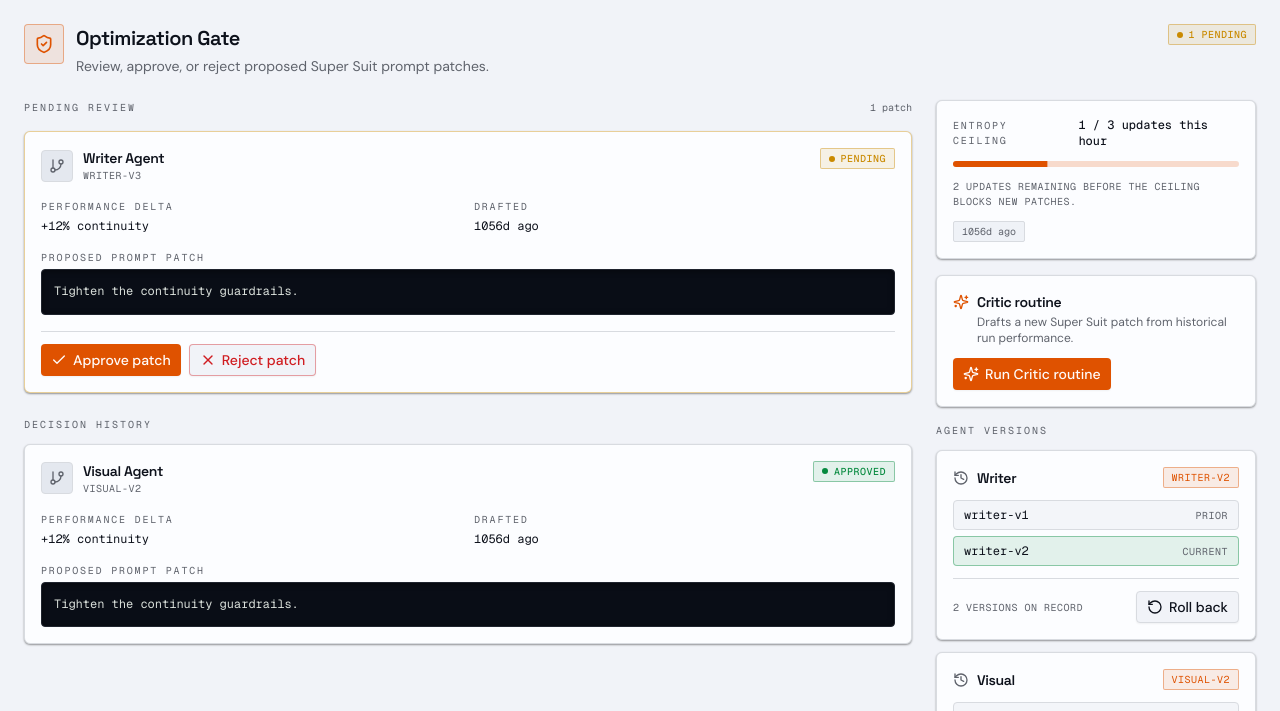
Test: OptimizationPage › rejects a pending patch through the backend
The width and height of the screenshot is (1280, 711).
Click the button "Reject patch": (252, 360) x1=189 y1=344 x2=316 y2=376
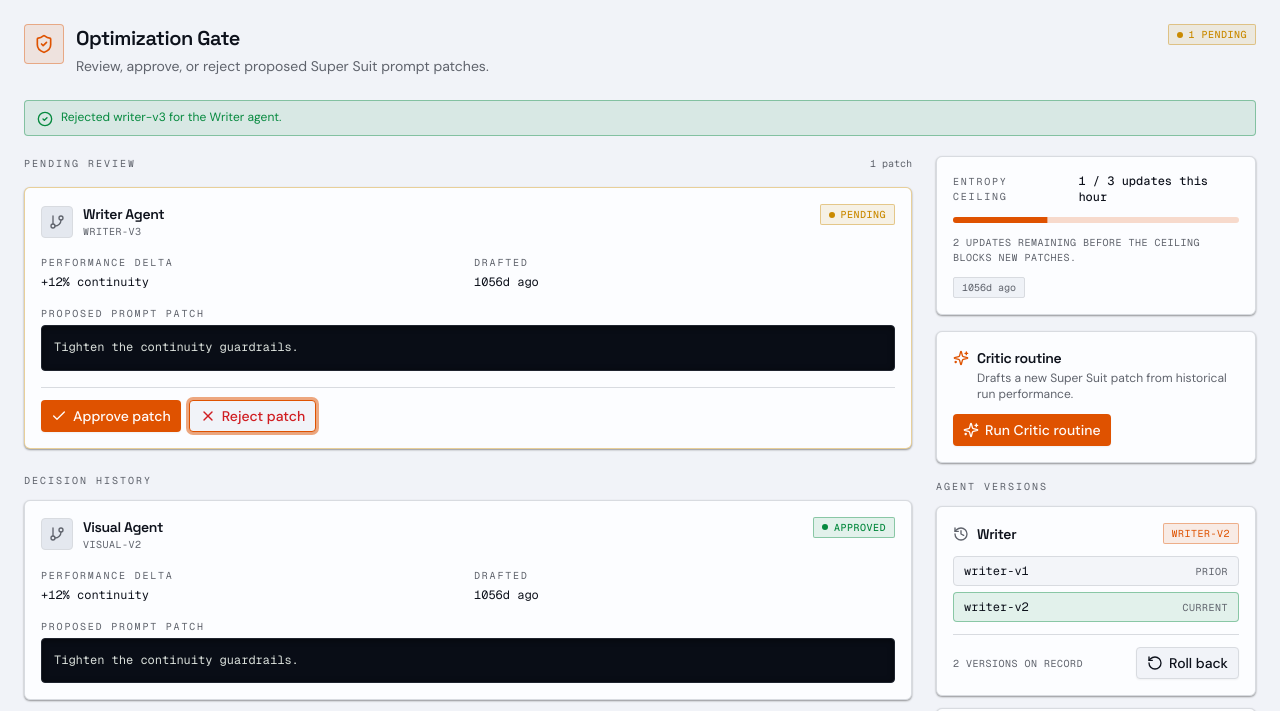
Check: the element with test id "optimization.action.success_state" shows "Rejected writer-v3", box x1=61 y1=109 x2=282 y2=125
